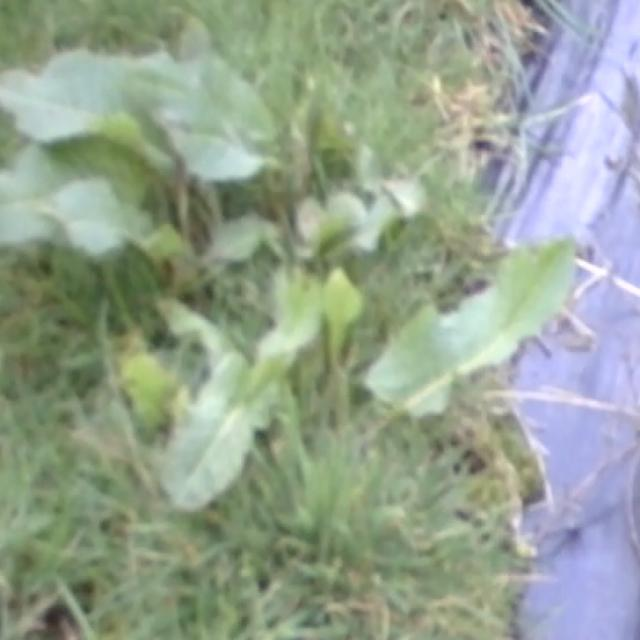organic waste: (0, 15, 543, 510), (0, 14, 339, 332)
